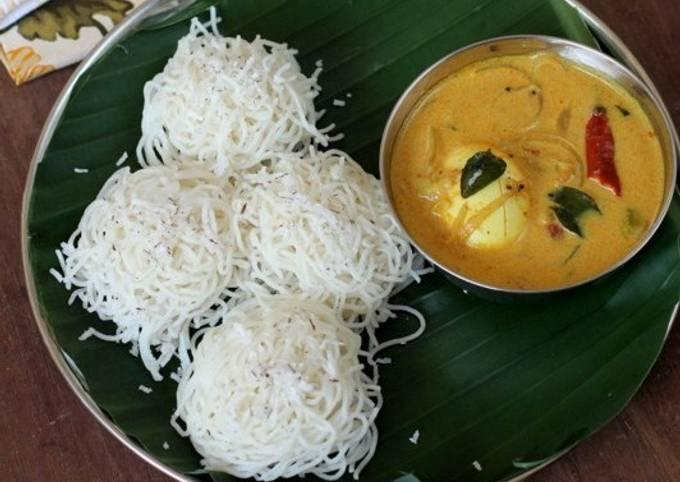String Hoppers: (65, 6, 382, 468)
